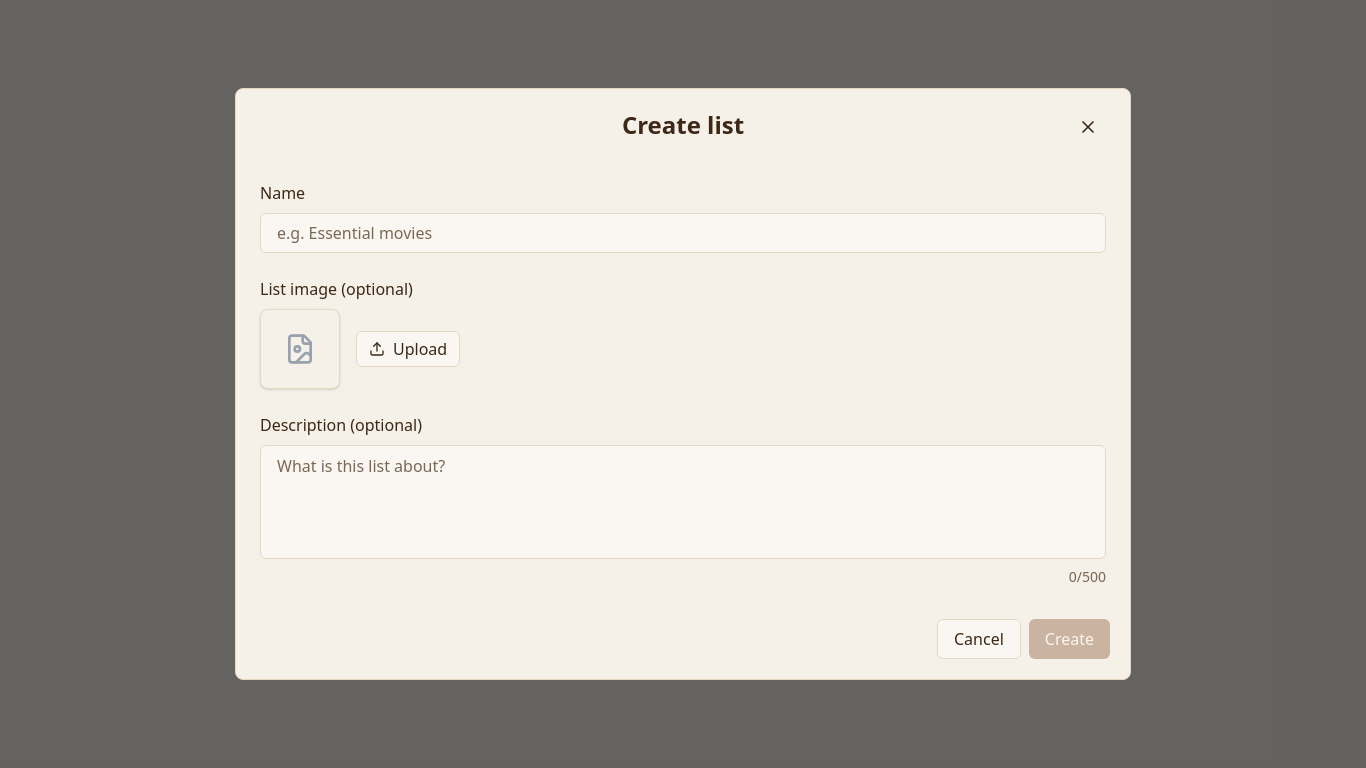
CreateListModal › closes and resets the form on cancel
This screenshot has width=1366, height=768.
In the field with placeholder "e.g. Essential movies": (683, 233) [260,213,1106,253], type "Essential movies"
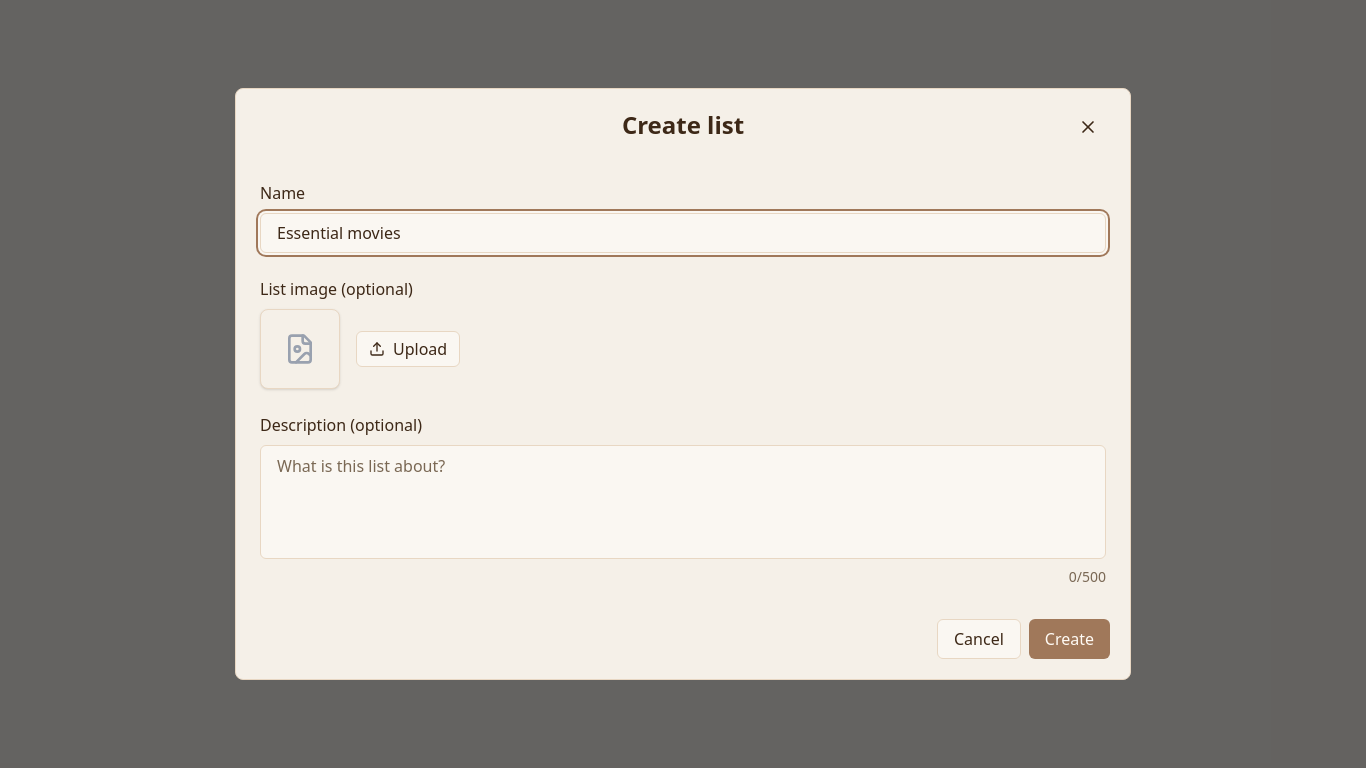
Click the button "Cancel": (979, 639) [937,619,1021,659]
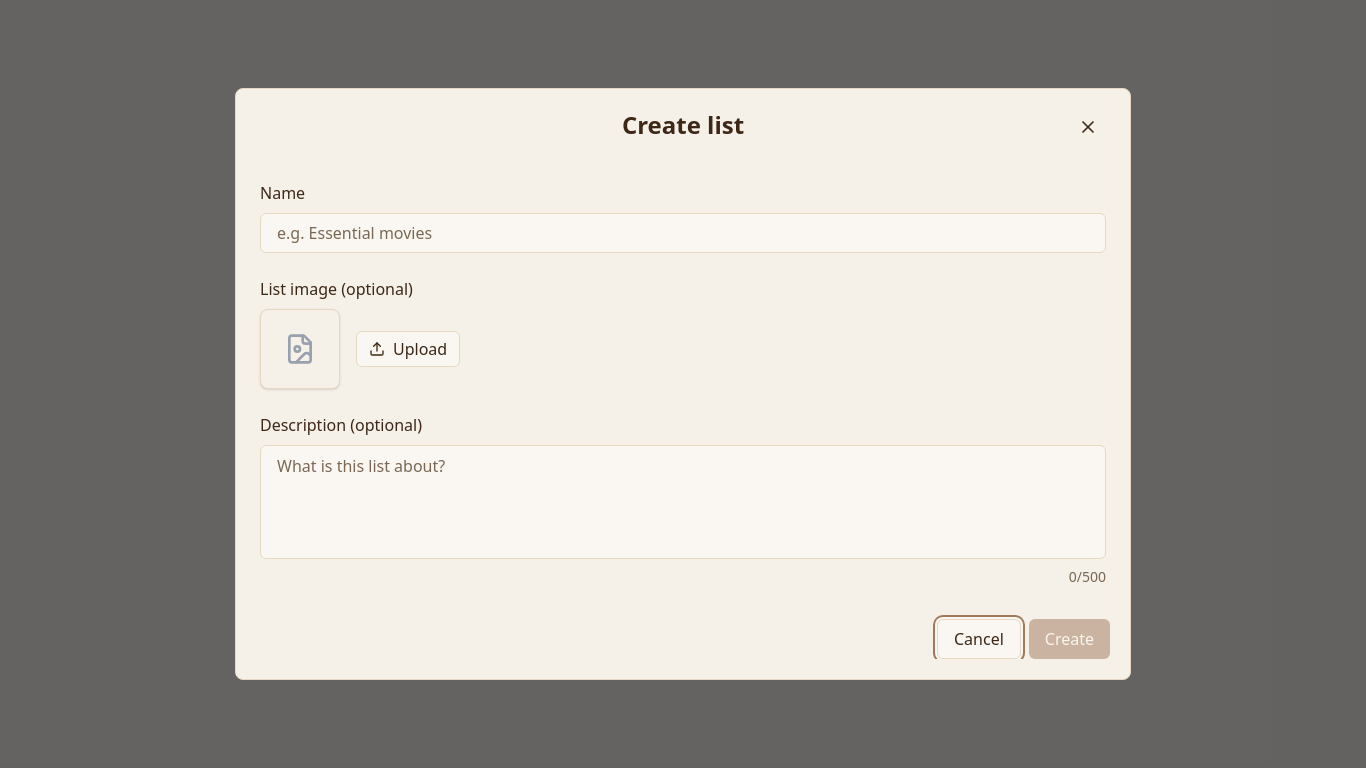
Expected: the field with placeholder "e.g. Essential movies" is empty, [260,213,1106,253]
